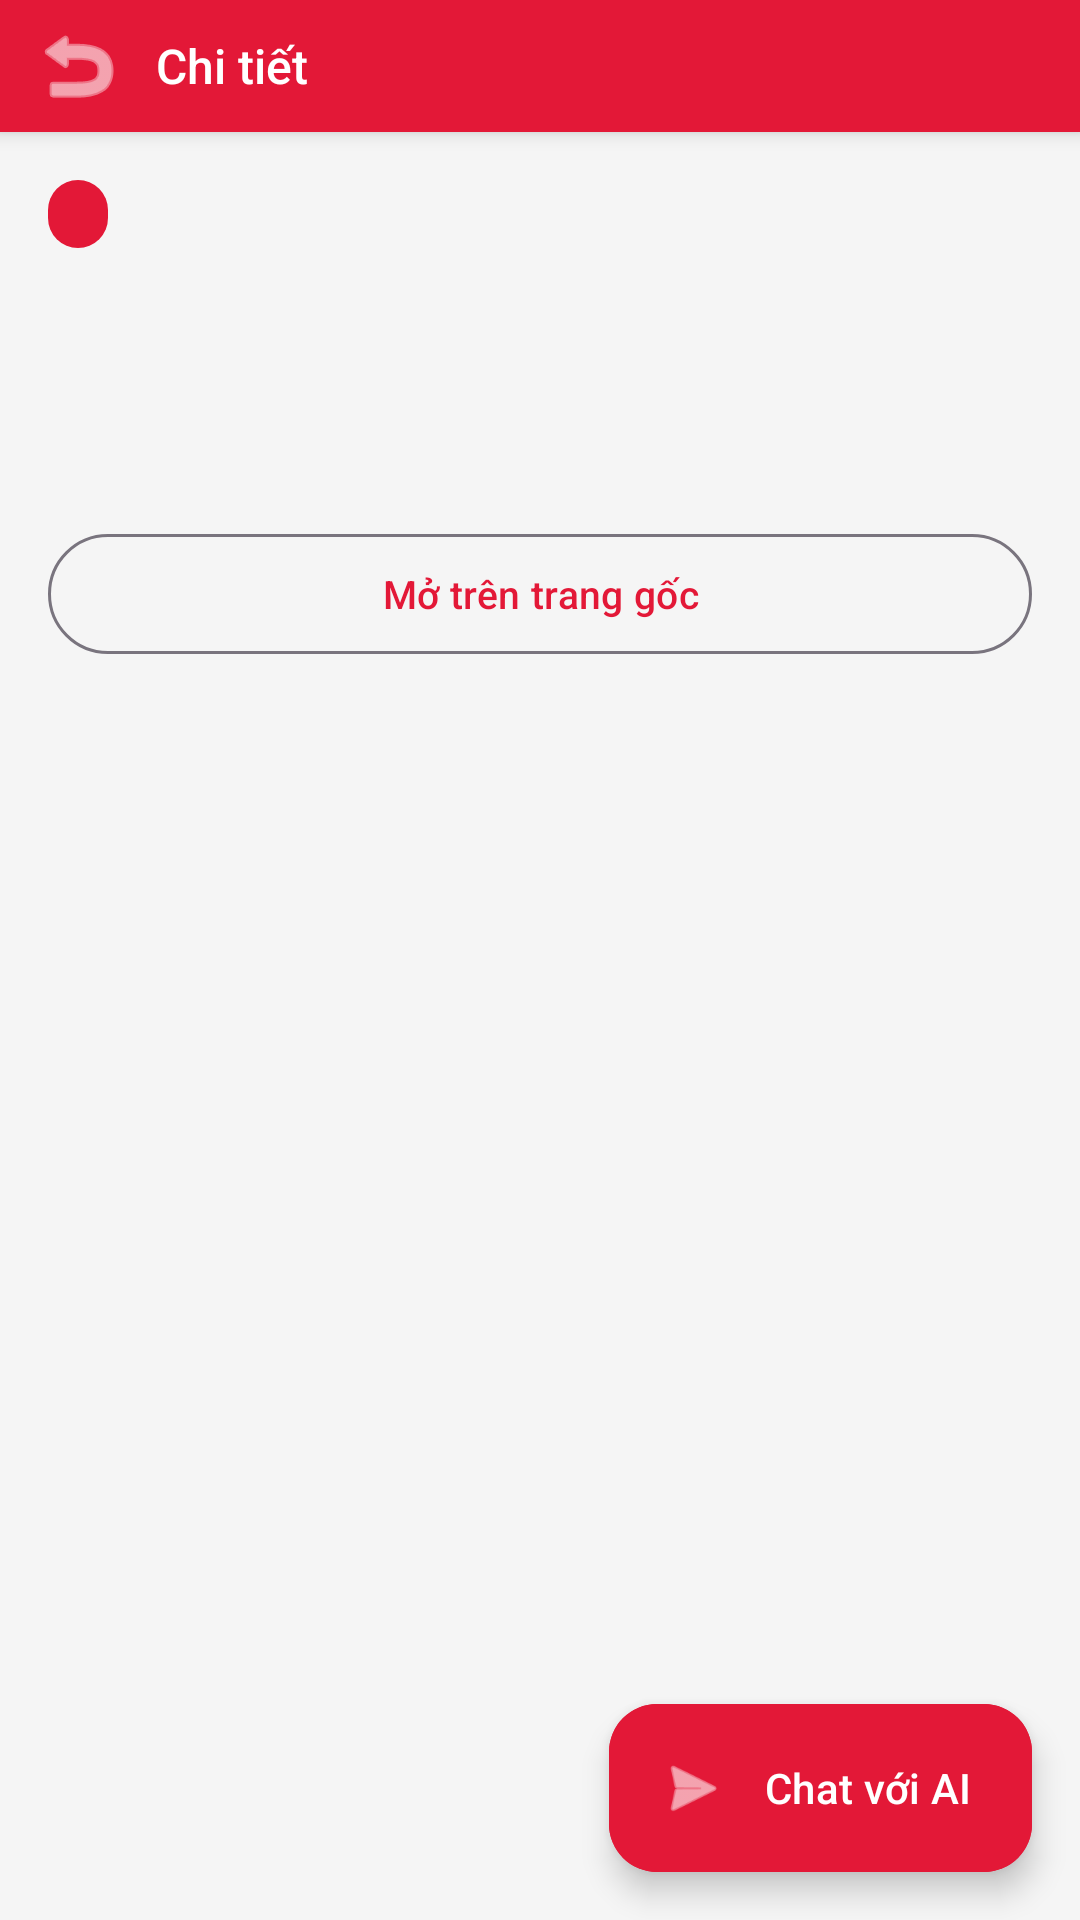

Icon bounding boxes for this 1080w x 1920h phone screenshot, format bbox=[x1, y1, x2, y2]:
Back: bbox=[45, 35, 114, 98]
